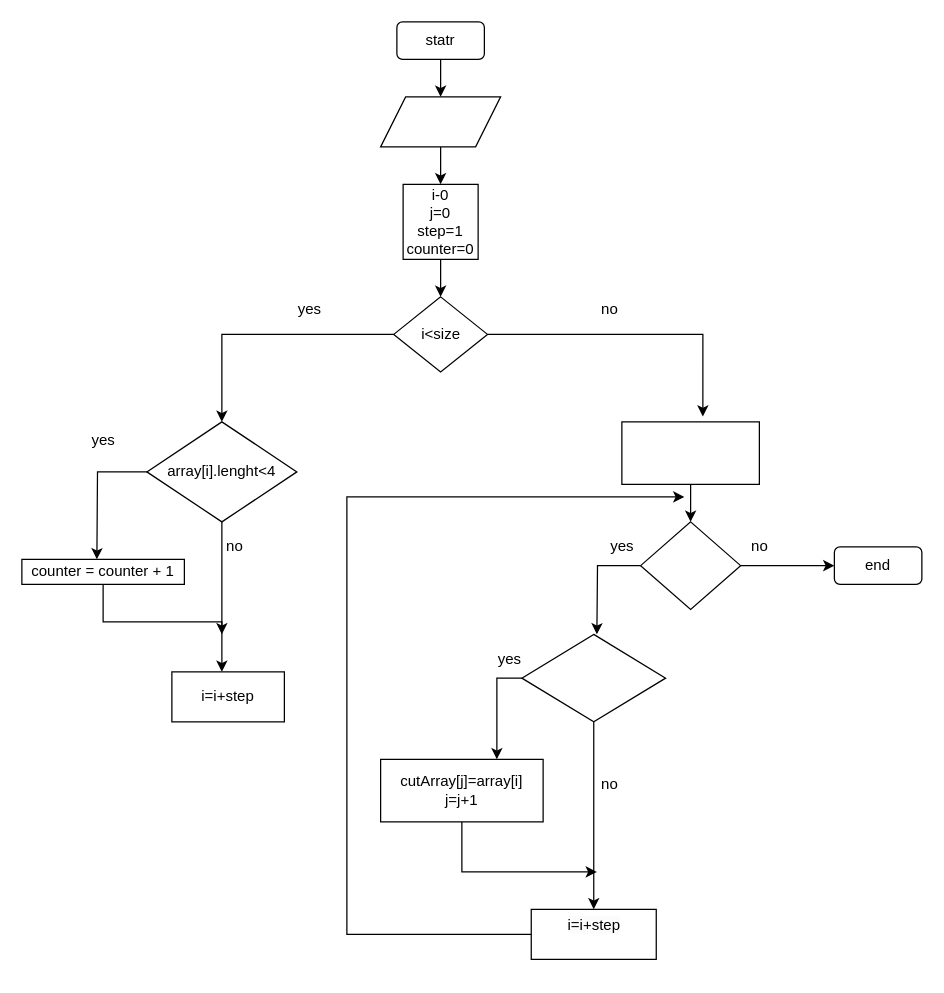
Some shapes in this 944 by 993 pixel diagram are drawn without their labels. Each missing label, with the centre of its shape:
array[i].lenght <=3: the point at 593,677
cutArray[counter] i=0: the point at 690,452
i < size: the point at 690,565
size array[size]: the point at 440,121
